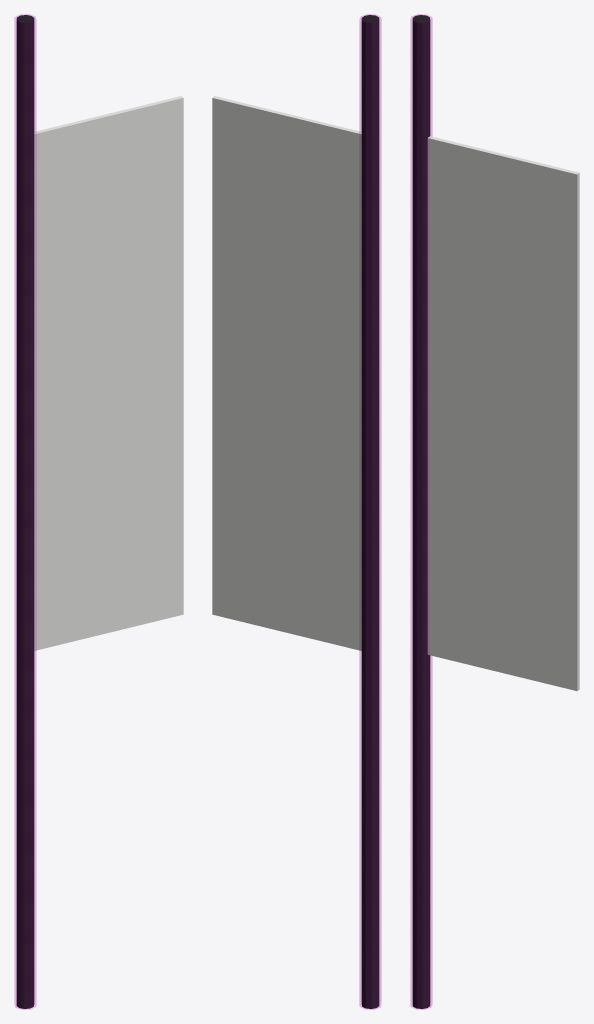
Rendered from featherflag_blank_white.dae.
3 renders of one model, left to right at view 1: azimuth 30°, elevation 25°; view 2: azimuth 150°, elevation 25°; view 3: azimuth 330°, elevation 25°, orthographic.
Parts seen in each view (by area): view 1: flag, Colmesh_pole-1, pole; view 2: flag, Colmesh_pole-1, pole; view 3: flag, Colmesh_pole-1, pole.
Boxes of the visible parts, x1,y1,x2,y2 form: flag: [34, 96, 183, 650]; Colmesh_pole-1: [14, 14, 36, 1009]; pole: [16, 15, 34, 1008]; flag: [212, 96, 361, 650]; Colmesh_pole-1: [359, 14, 381, 1009]; pole: [361, 15, 379, 1008]; flag: [427, 136, 579, 690]; Colmesh_pole-1: [410, 14, 432, 1009]; pole: [412, 15, 430, 1008].
Bounding box in the file's own units: 0.745 × 0.09 × 4.2.
Materials: 3 (2 with a texture image).
